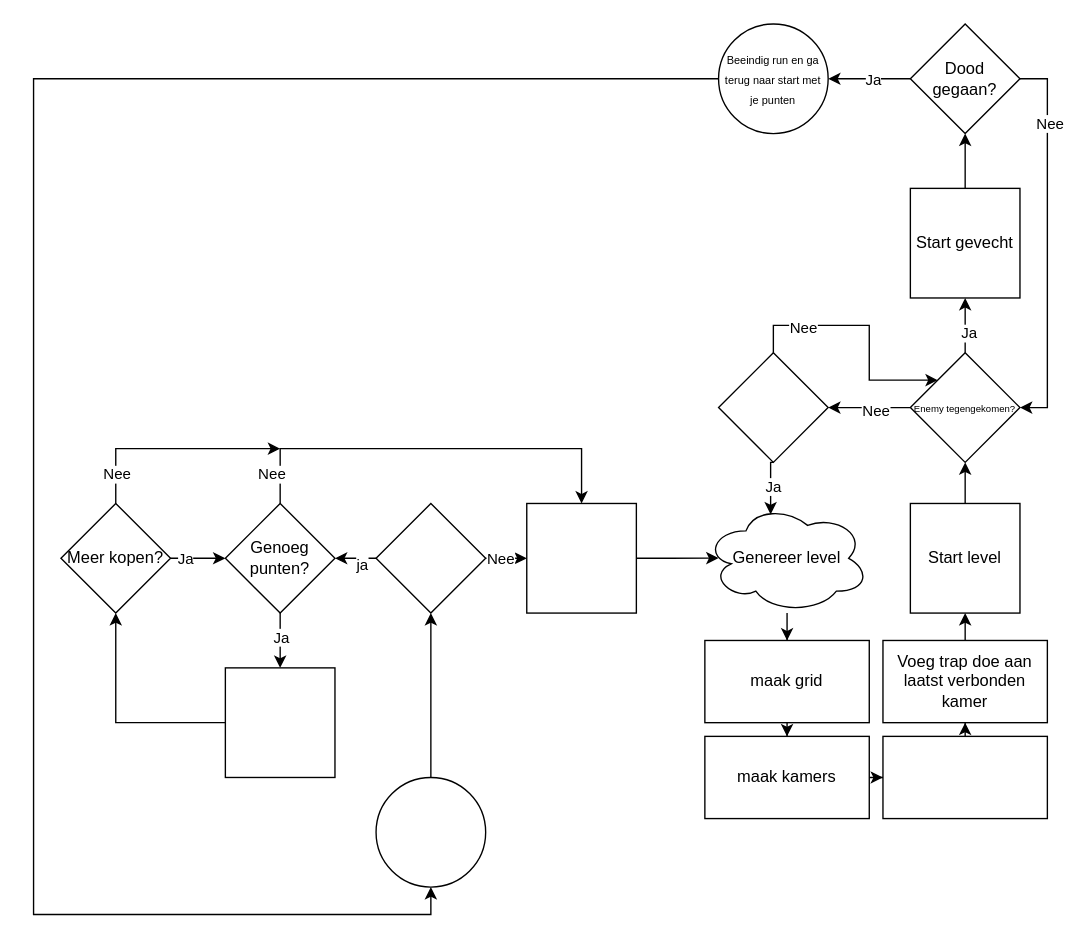
Image size: 1086x949. Some labels were removed from this diagram. The shapes that lost their labels are listed below. From the top down, each one's box as (x1, y1, x2, y2) in pixels, then its label:
(717, 351, 828, 462): Trap bereikt?
(375, 502, 486, 613): open shop?
(525, 502, 636, 613): Start run
(224, 667, 335, 777): Koop upgrade naar keuze
(882, 735, 1047, 819): verbind kamers met gangen
(375, 776, 486, 887): Start
